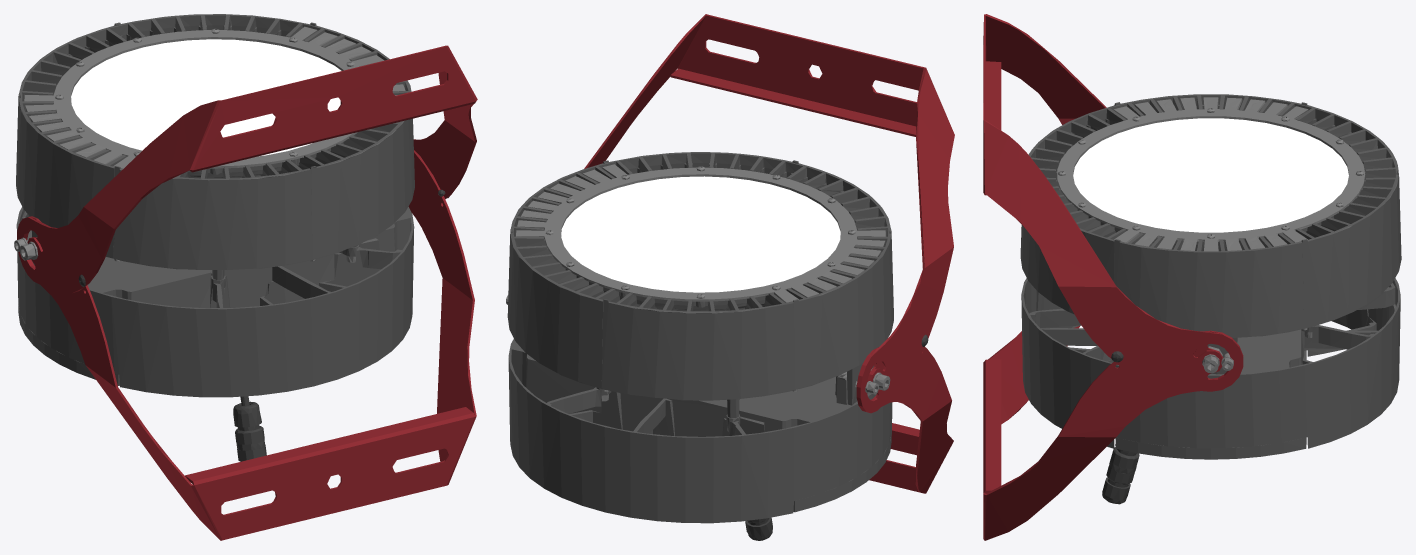
Rendered from L-industry-ll-Pro-Max.glb.
The picture shows the model from 3 angles, left to right: view 1: azimuth 30°, elevation 25°; view 2: azimuth 150°, elevation 25°; view 3: azimuth 270°, elevation 25°; orthographic projection. The views are drawn at different scales.
Visible parts, largest first — view 1: Âûðåç-Âûòÿíóòü1; view 2: Âûðåç-Âûòÿíóòü1; view 3: Âûðåç-Âûòÿíóòü1.
Boxes of the visible parts, x1,y1,x2,y2 form: Âûðåç-Âûòÿíóòü1: (14,14,477,540); Âûðåç-Âûòÿíóòü1: (506,14,954,540); Âûðåç-Âûòÿíóòü1: (983,14,1401,540).
Size of the model in its own units: 0.3572 by 0.4086 by 0.3527.
